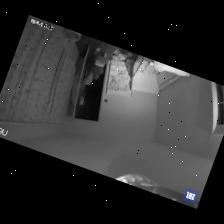person: (92, 46, 108, 78)
